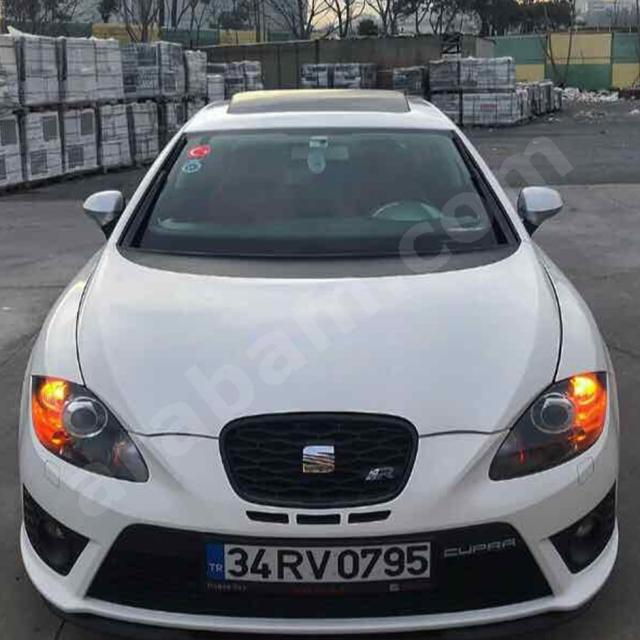license_plate: (203, 538, 433, 583)
